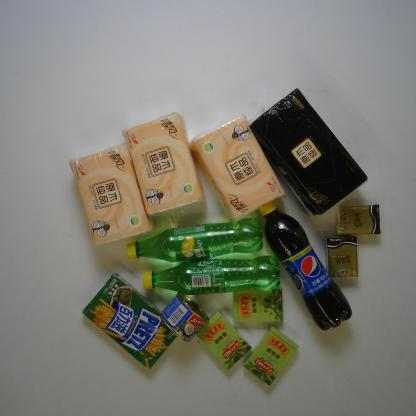Candy: (243, 326, 298, 386), (196, 312, 251, 371), (232, 288, 284, 324)
Canned Food: (161, 294, 208, 340)
Dessert: (83, 275, 176, 373)
Drink: (261, 200, 352, 332), (124, 217, 264, 263), (142, 256, 280, 295)
Tissue: (250, 87, 369, 219), (189, 114, 287, 223), (121, 109, 206, 216), (68, 145, 150, 247), (325, 235, 361, 280), (334, 204, 380, 234)
